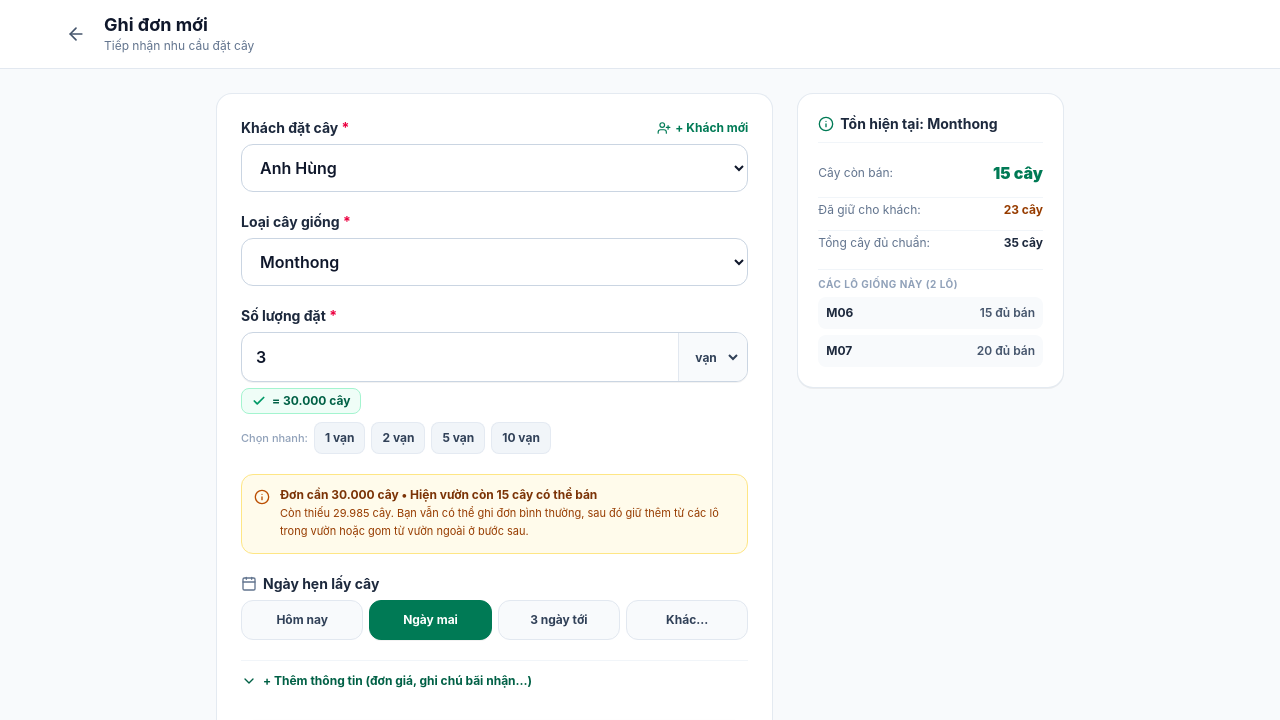
Issue #42 OrderNew availability (real Dexie) › C4213: malformed own facts hide false zero/stale totals; retry recovers using real A1
Expected: the text "Đơn cần 30.000 cây • Hiện vườn còn 15 cây có thể bán" is shown, [280,487,597,502]
Select "cây" in the dropdown named "Đơn vị tính số lượng" at (712, 357), box [683,340,741,374]
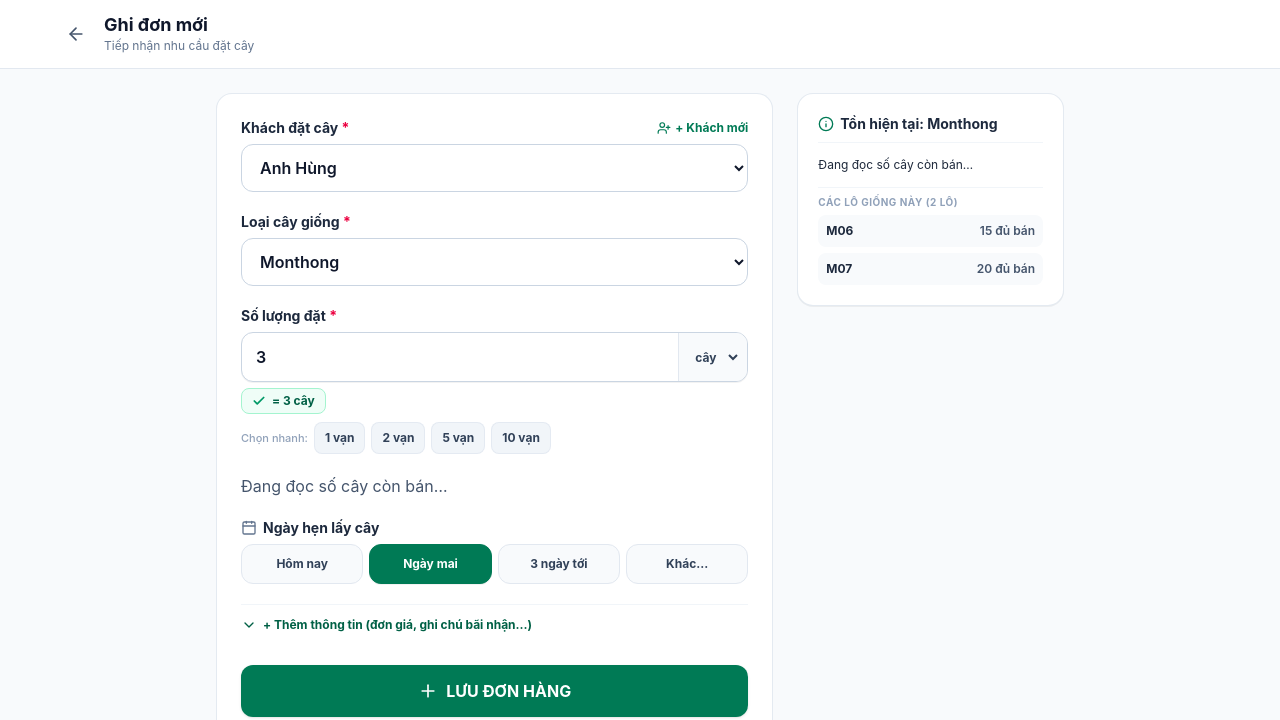
Replace the text in the field labelled "Số lượng đặt *" with "20" at (460, 357), box [242,333,678,381]
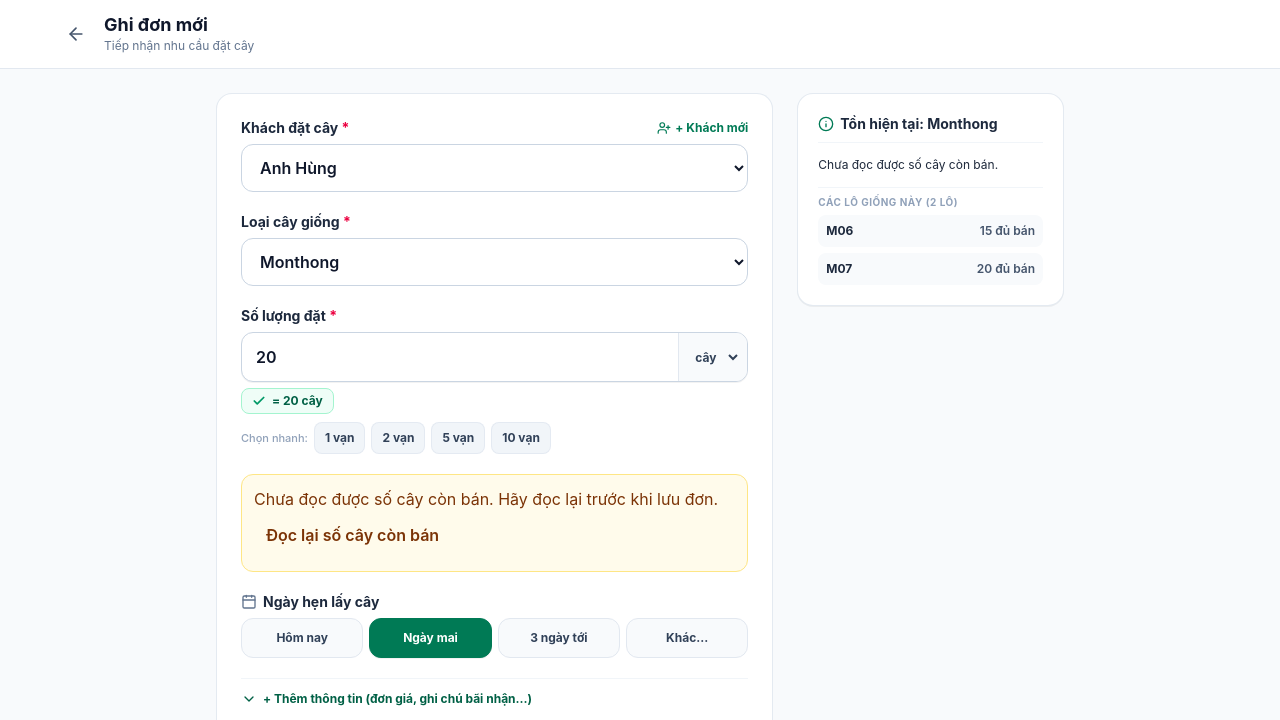
Expected: the text "Hiện vườn còn 15 cây" is not shown
Result: the text "Chưa đọc được số cây còn bán. Hãy đọc lại trước khi lưu đơn." is shown at [254,487,735,511]
Click the button "Đọc lại số cây còn bán" at (353, 535), box [254,511,451,559]
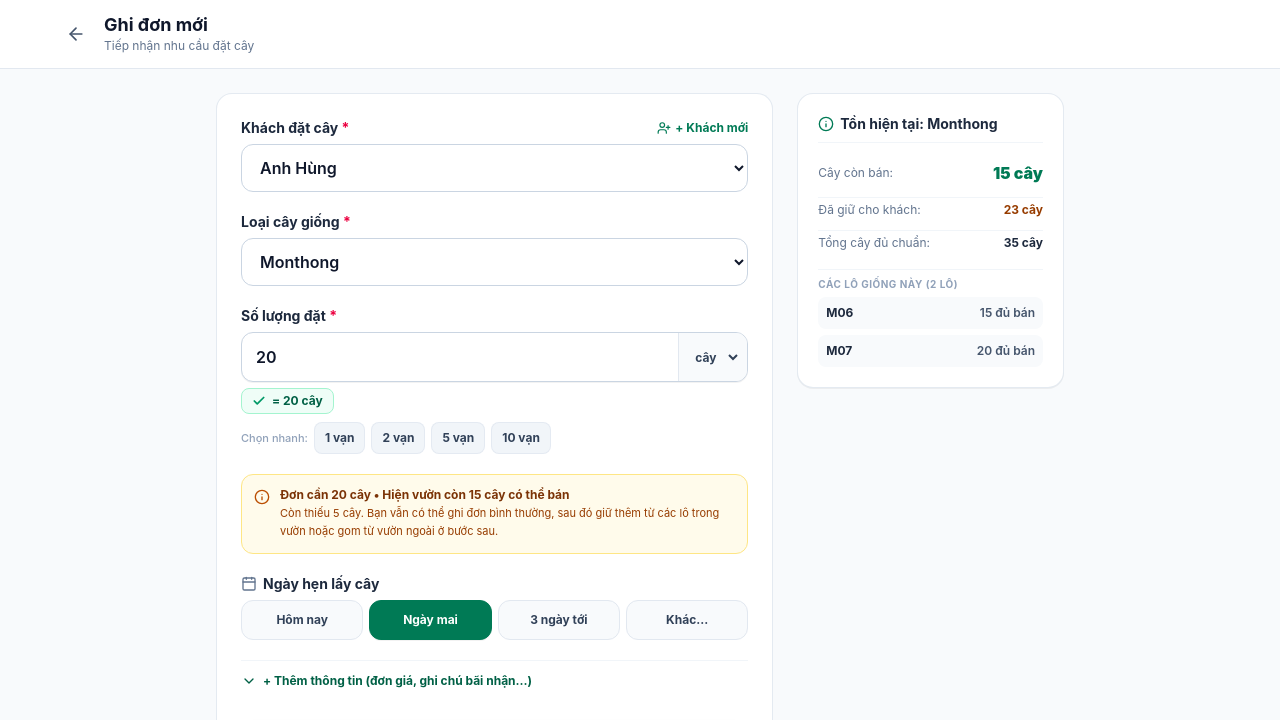
Result: the text "Đơn cần 20 cây • Hiện vườn còn 15 cây có thể bán" is shown at [280,487,570,502]
Result: the text "Chưa đọc được số cây còn bán. Hãy đọc lại" is gone
